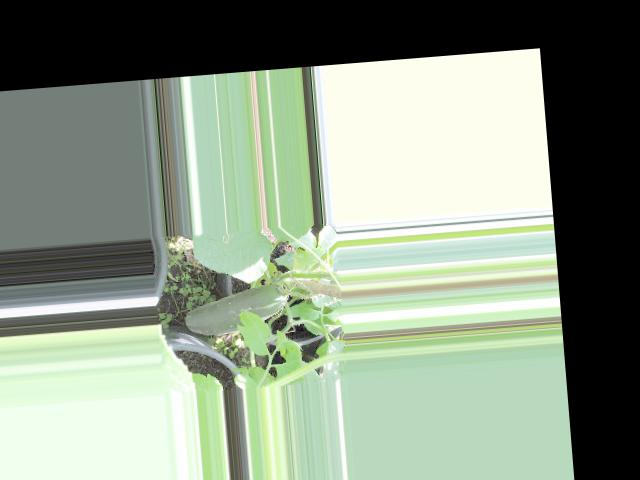cucumber: (183, 282, 290, 337)
